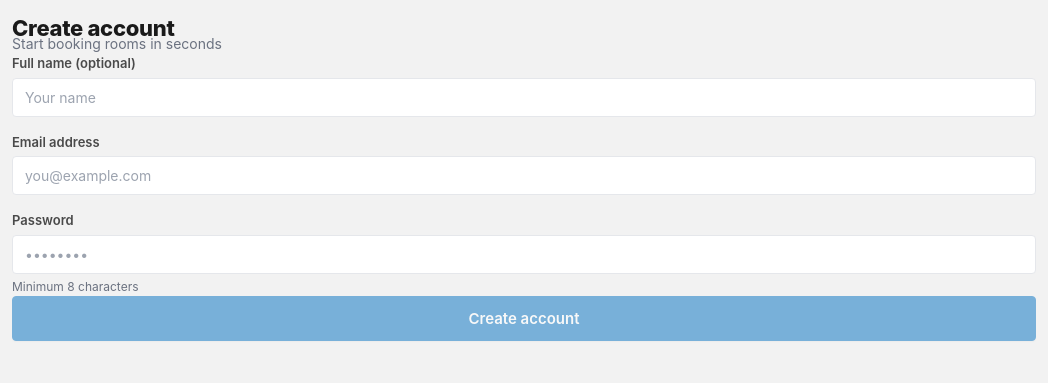
Test case: RegisterForm › submit button is enabled when email + password ≥8 chars
The image size is (1048, 383).
Type "a@b.com" into the field with placeholder "you@example.com" at {"x": 524, "y": 176}, box [12,156,1036,195]
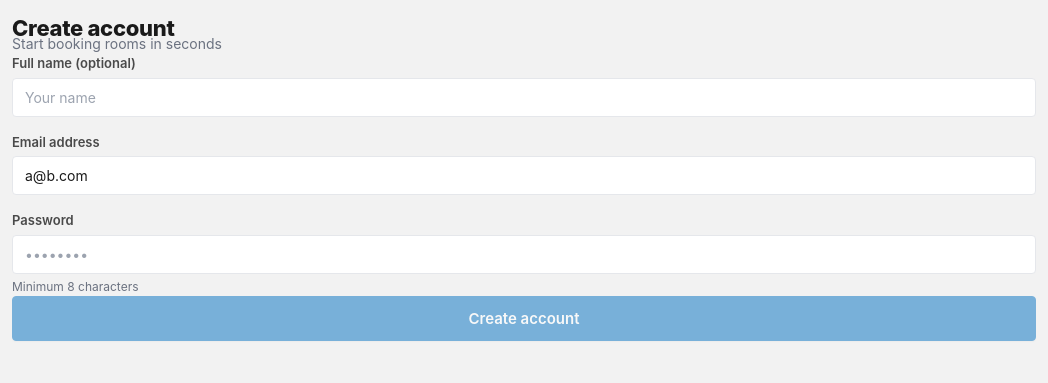
Type "password1" into the password field with placeholder "••••••••" at {"x": 524, "y": 254}, box [12,234,1036,274]
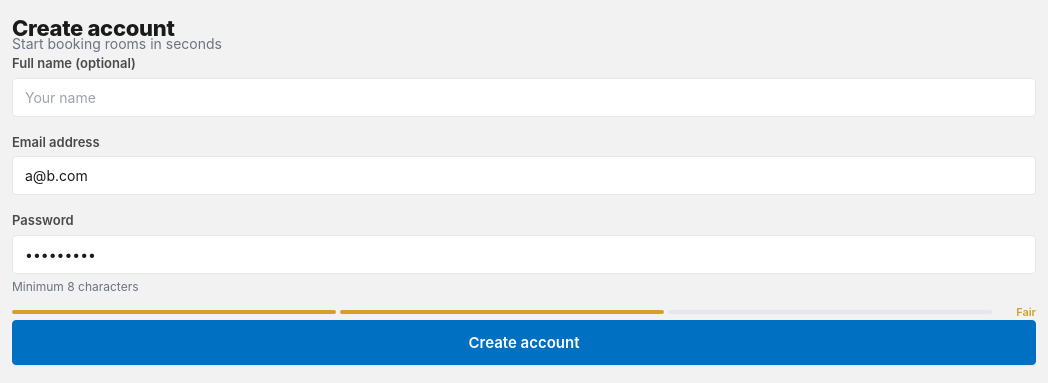
Check: the button "Create account" is enabled, box [12,320,1036,365]
